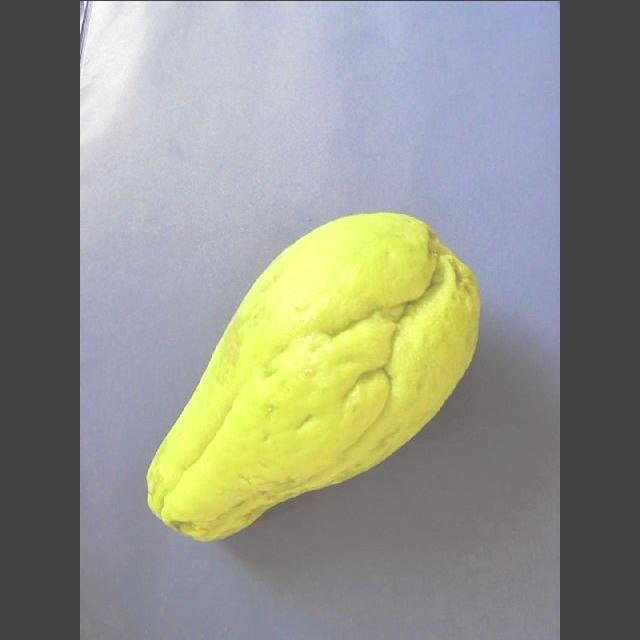chayote: (147, 213, 478, 540)
